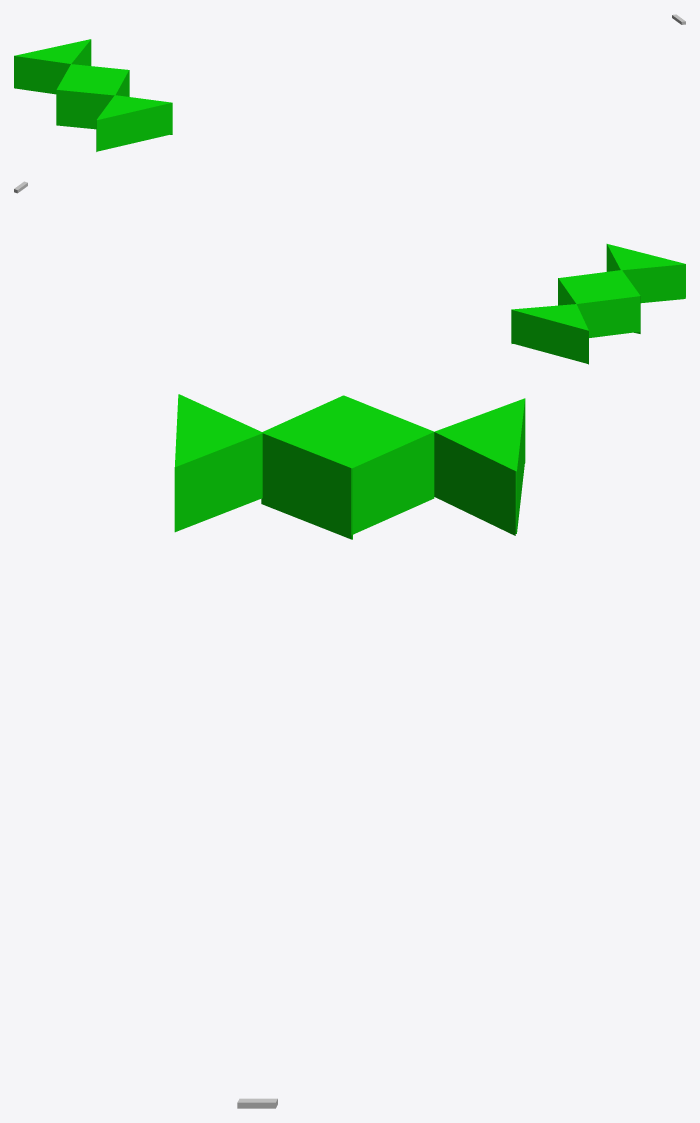
Rendered from Rune3NoStoneMapped.fbx.
3 renders of one model, top to bottom at view 1: azimuth 30°, elevation 25°; view 2: azimuth 150°, elevation 25°; view 3: azimuth 270°, elevation 25°, orthographic. The views are drawn at different scales.
Parts seen in each view (by area): view 1: Cube.003, Cube.004, Cube.006, Cube.005; view 2: Cube.006, Cube.005, Cube.003, Cube.004; view 3: Cube.004, Cube.006, Cube.003, Cube.005.
Part boxes in pixels (left/top/right/bottom): Cube.003: left=96, top=95, right=172, bottom=151; Cube.004: left=56, top=70, right=129, bottom=129; Cube.006: left=14, top=39, right=91, bottom=94; Cube.005: left=57, top=64, right=129, bottom=96; Cube.006: left=511, top=304, right=588, bottom=364; Cube.005: left=558, top=278, right=640, bottom=337; Cube.003: left=606, top=244, right=685, bottom=303; Cube.004: left=558, top=270, right=640, bottom=333; Cube.004: left=261, top=395, right=352, bottom=539; Cube.006: left=434, top=398, right=525, bottom=535; Cube.003: left=174, top=394, right=263, bottom=532; Cube.005: left=343, top=395, right=434, bottom=535.
Bounding box in the file's own units: 694 × 68.49 × 174.
